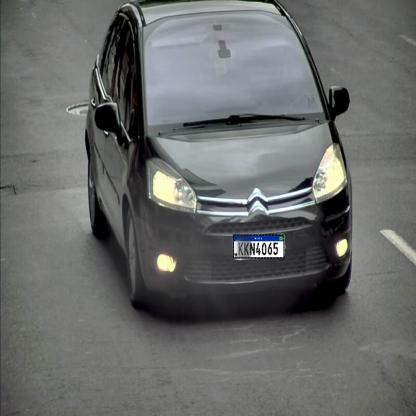PlacaM: (233, 234, 284, 259)
